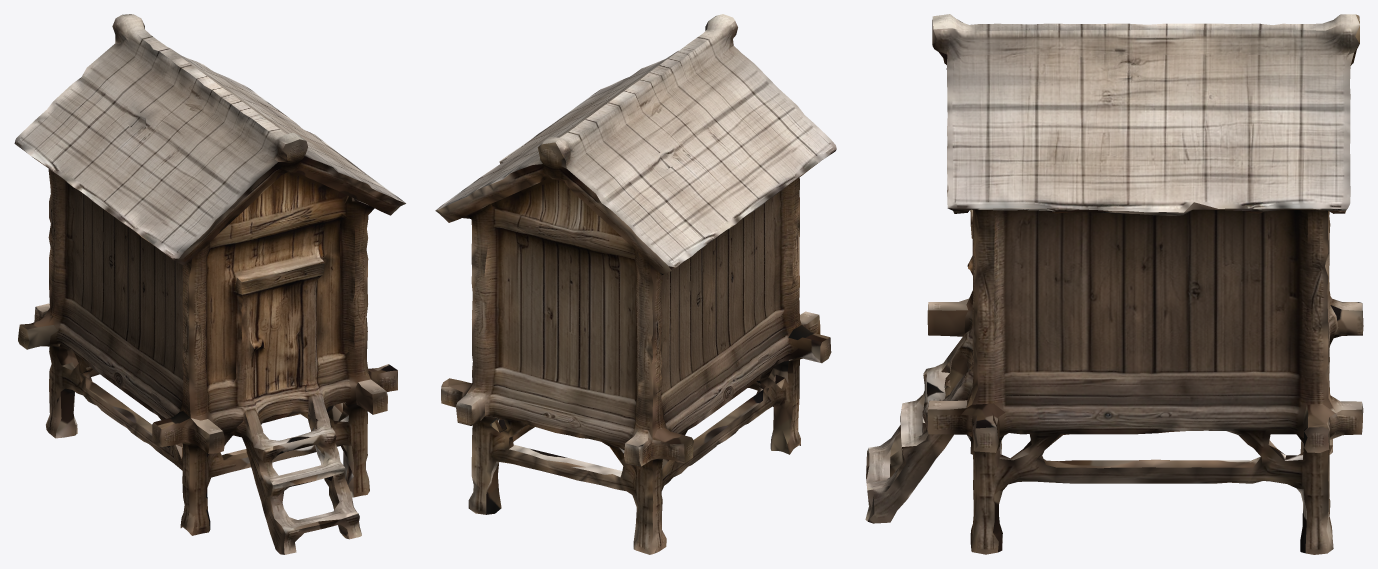
File: granary.glb
3 views of the same model, side by side, from view 1: azimuth 30°, elevation 25°; view 2: azimuth 150°, elevation 25°; view 3: azimuth 270°, elevation 25° (orthographic). The views are drawn at different scales.
Visible parts, largest first — view 1: Stilt Hut; view 2: Stilt Hut; view 3: Stilt Hut.
Part boxes in pixels (bbox=[...]): Stilt Hut: bbox=[14, 14, 405, 554]; Stilt Hut: bbox=[435, 14, 836, 554]; Stilt Hut: bbox=[865, 14, 1363, 554].
Size of the model in its own units: 2.25 by 3.5 by 3.27.
1 material, 1 textured.
